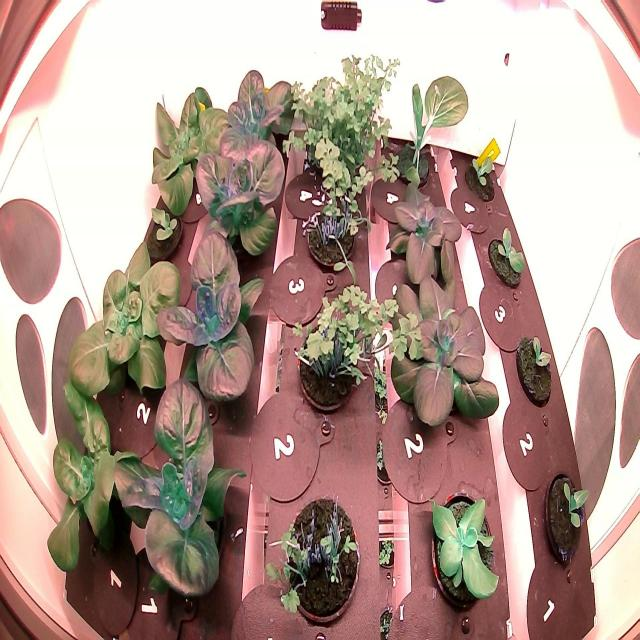germination: (512, 322, 558, 415)
young: (105, 358, 252, 623), (22, 374, 157, 586), (148, 214, 276, 426), (372, 256, 506, 448), (59, 235, 192, 400), (186, 115, 294, 284), (373, 161, 468, 302), (147, 77, 238, 217), (424, 481, 504, 616), (212, 62, 299, 170), (538, 466, 593, 570), (140, 199, 189, 266), (483, 221, 529, 292), (461, 146, 499, 204)
